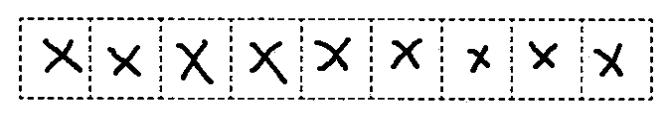X: (33, 29, 85, 83), (171, 35, 220, 89), (244, 35, 293, 89), (311, 32, 356, 76), (102, 40, 148, 80), (385, 34, 428, 75), (588, 39, 629, 81), (524, 36, 564, 76), (461, 39, 497, 75)
